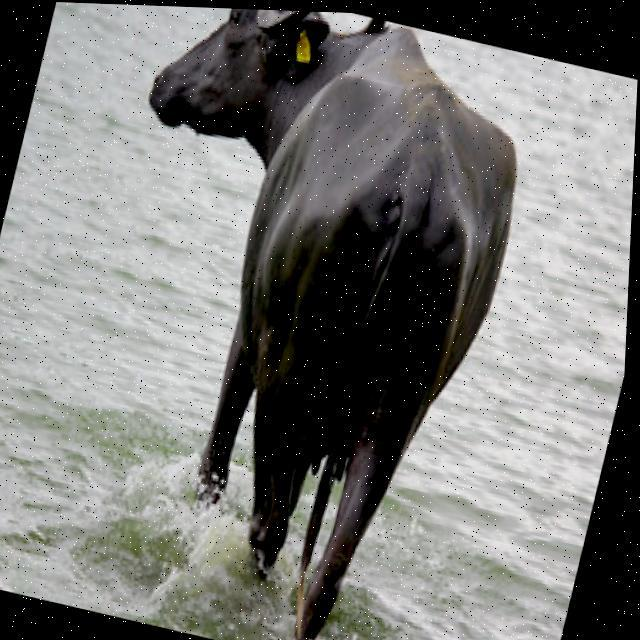Buffalo: (26, 2, 555, 640)
